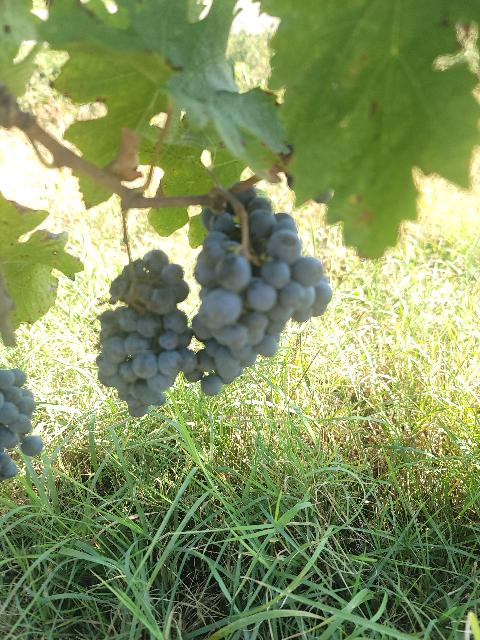grapes: (189, 189, 331, 395), (96, 250, 202, 418)
